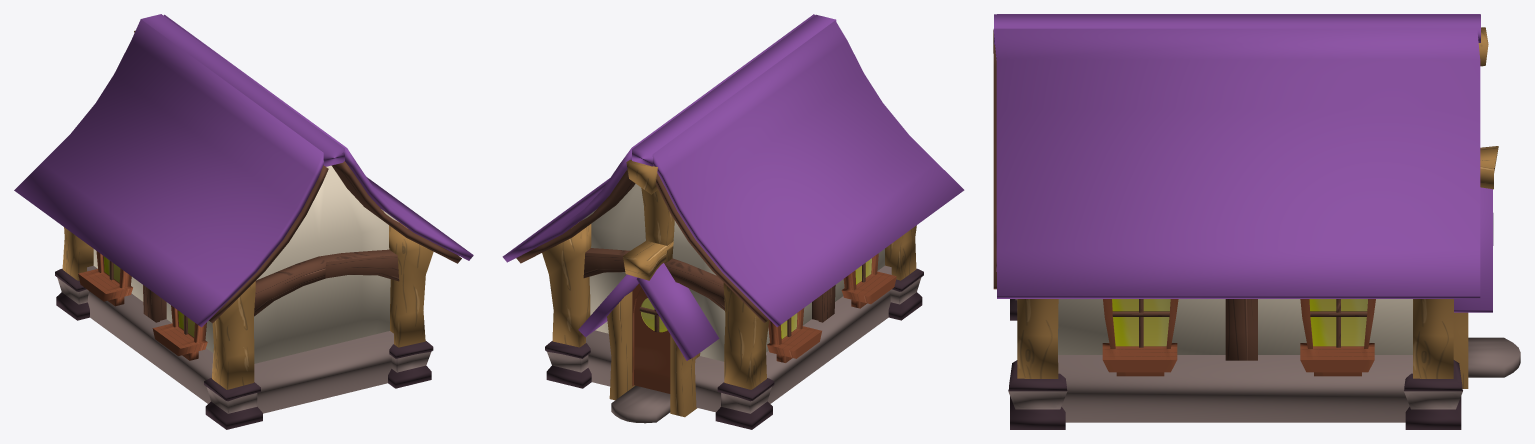
Rendered from House.fbx.
3 renders of one model, left to right at view 1: azimuth 30°, elevation 25°; view 2: azimuth 150°, elevation 25°; view 3: azimuth 270°, elevation 25°, orthographic. The views are drawn at different scales.
Parts seen in each view (by area): view 1: polySurface12, polySurface9, polySurface8, polySurface11, polySurface43, polySurface42, polySurface34, polySurface21, polySurface14, polySurface13, polySurface20, polySurface24 (+6 smaller); view 2: polySurface12, polySurface8, polySurface9, polySurface11, polySurface2, polySurface45, polySurface1, polySurface50, polySurface34, polySurface6, polySurface22, polySurface19 (+15 smaller); view 3: polySurface34, polySurface8, polySurface9, polySurface11, polySurface35, polySurface46, polySurface43, polySurface2, polySurface19, polySurface20, polySurface31, polySurface44 (+4 smaller).
Part boxes in pixels (x1=…): polySurface12: x1=14, y1=19, x2=323, y2=327; polySurface9: x1=93, y1=165, x2=398, y2=363; polySurface8: x1=87, y1=265, x2=393, y2=413; polySurface11: x1=141, y1=14, x2=344, y2=166; polySurface43: x1=389, y1=222, x2=433, y2=347; polySurface42: x1=212, y1=281, x2=255, y2=389; polySurface34: x1=163, y1=14, x2=473, y2=260; polySurface21: x1=204, y1=378, x2=262, y2=429; polySurface14: x1=254, y1=256, x2=326, y2=316; polySurface13: x1=319, y1=249, x2=399, y2=281; polySurface20: x1=388, y1=341, x2=433, y2=388; polySurface24: x1=152, y1=305, x2=207, y2=360; polySurface12: x1=652, y1=20, x2=964, y2=327; polySurface8: x1=586, y1=265, x2=891, y2=412; polySurface9: x1=581, y1=183, x2=884, y2=361; polySurface11: x1=632, y1=14, x2=836, y2=166; polySurface2: x1=542, y1=222, x2=591, y2=347; polySurface45: x1=636, y1=263, x2=719, y2=360; polySurface1: x1=723, y1=283, x2=769, y2=389; polySurface50: x1=632, y1=283, x2=670, y2=393; polySurface34: x1=502, y1=14, x2=814, y2=262; polySurface6: x1=607, y1=291, x2=634, y2=400; polySurface22: x1=715, y1=378, x2=774, y2=429; polySurface19: x1=545, y1=341, x2=591, y2=388; polySurface34: x1=993, y1=28, x2=1480, y2=298; polySurface8: x1=1058, y1=355, x2=1412, y2=422; polySurface9: x1=1058, y1=299, x2=1412, y2=354; polySurface11: x1=994, y1=14, x2=1480, y2=44; polySurface35: x1=1102, y1=299, x2=1178, y2=376; polySurface46: x1=1300, y1=299, x2=1375, y2=376; polySurface43: x1=1017, y1=299, x2=1058, y2=378; polySurface2: x1=1413, y1=299, x2=1453, y2=378; polySurface19: x1=1404, y1=360, x2=1462, y2=429; polySurface20: x1=1008, y1=360, x2=1067, y2=429; polySurface31: x1=1225, y1=299, x2=1257, y2=360; polySurface44: x1=1454, y1=187, x2=1492, y2=312.
Bounding box in the file's own units: 20.64 × 18.39 × 25.53.
13 materials, 13 textured.
